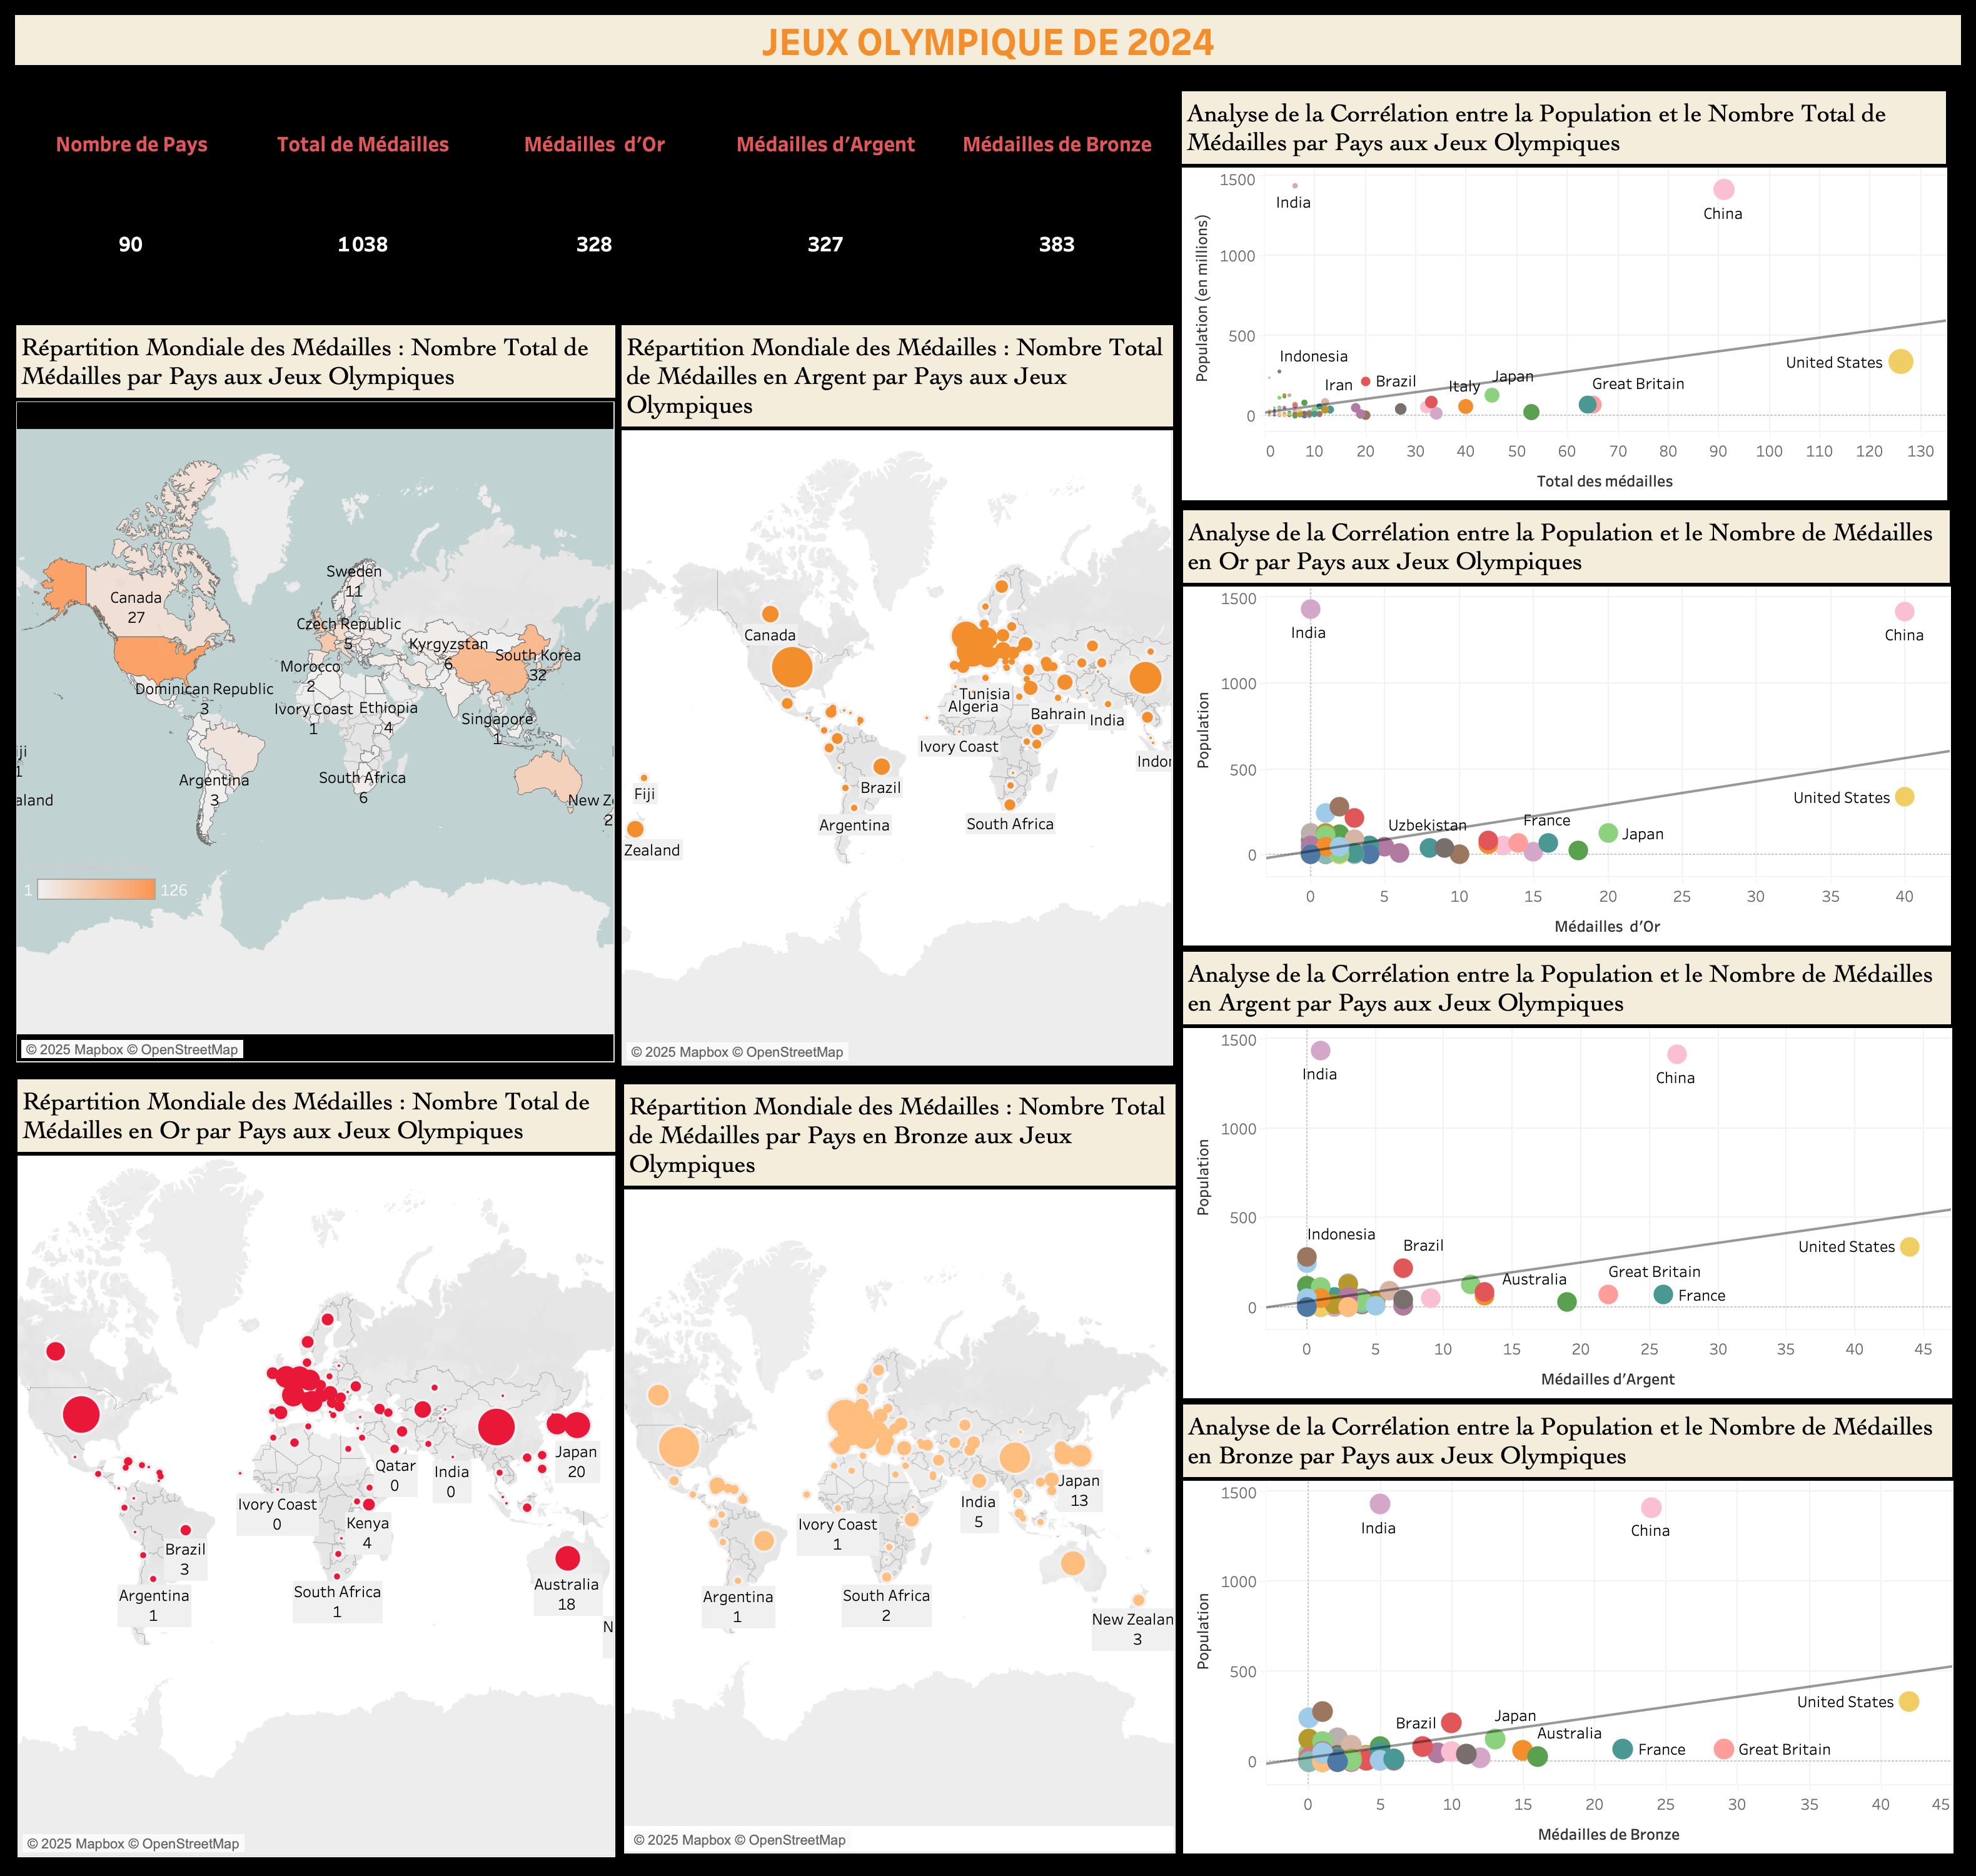

The dashboard page shown, as its layout file describes it:
{"tool":"tableau","page":{"name":"Tableau de bord 1","canvas":[1580,1500],"ordinal":0},"visuals":[{"type":"title","box":[8,8,1564,48]},{"type":"worksheet","title":"Feuille 5","mark":"Circle","rows":["population"],"cols":["total"],"box":[945,72.7,611,326.5]},{"type":"worksheet","title":"KPI","mark":"Automatic","box":[13,95,925,160]},{"type":"worksheet","title":"Feuille 1","mark":"Automatic","box":[13,260,479,590]},{"type":"worksheet","title":"Feuille 3","mark":"Automatic","box":[497,260,441,591.7]},{"type":"worksheet","title":"Feuille 6","mark":"Circle","rows":["population"],"cols":["gold"],"box":[946,408,613,348]},{"type":"legend","title":"Feuille 1","param":"[federated.0qsi5jy0xinm9o10l91z505nzp70].[sum:total:qk]","box":[15,680,140,126]},{"type":"worksheet","title":"Feuille 7","mark":"Circle","rows":["population"],"cols":["silver"],"box":[946,761,614,357]},{"type":"worksheet","title":"Feuille 2","mark":"Automatic","box":[14,863.3,478,621.7]},{"type":"worksheet","title":"Feuille 4","mark":"Automatic","box":[499,866.7,441,615]},{"type":"worksheet","title":"Feuille 8","mark":"Circle","rows":["population"],"cols":["bronze"],"box":[946,1123,615,359]}]}

Visuals, with their boxes in screenshot pixels (x1, y1, x2, y2), scaled from the page's 1580x1500 canvas onto the 1976x1876 screenshot:
title: [10, 10, 1966, 70]
"Feuille 5" worksheet (Circle marks): [1182, 91, 1946, 499]
"KPI" worksheet: [16, 119, 1173, 319]
"Feuille 1" worksheet: [16, 325, 615, 1063]
"Feuille 3" worksheet: [622, 325, 1173, 1065]
"Feuille 6" worksheet (Circle marks): [1183, 510, 1950, 946]
"Feuille 1" legend: [19, 850, 194, 1008]
"Feuille 7" worksheet (Circle marks): [1183, 952, 1951, 1398]
"Feuille 2" worksheet: [18, 1080, 615, 1857]
"Feuille 4" worksheet: [624, 1084, 1176, 1853]
"Feuille 8" worksheet (Circle marks): [1183, 1404, 1952, 1853]
